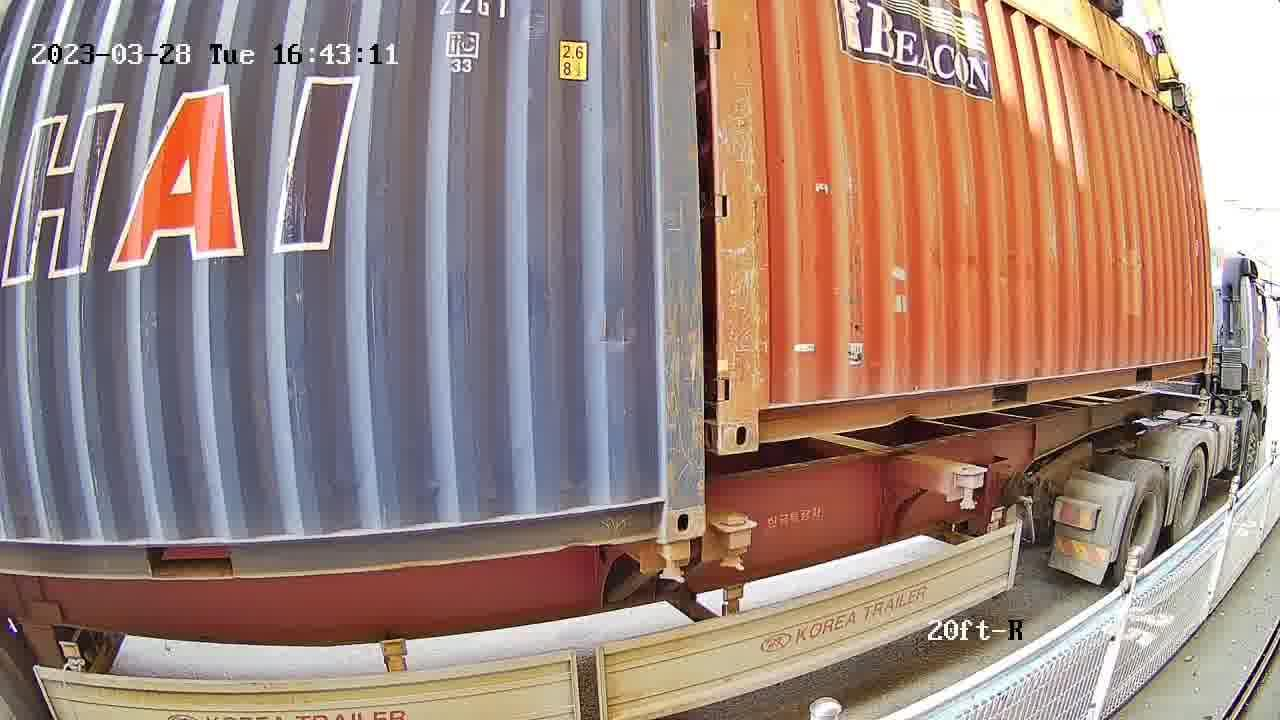Cone: (712, 513, 758, 575), (655, 538, 694, 587)
Hole_L: (716, 379, 788, 456)
Hole_R: (624, 456, 705, 544)
Tire: (1117, 465, 1165, 578), (1174, 451, 1206, 539)
